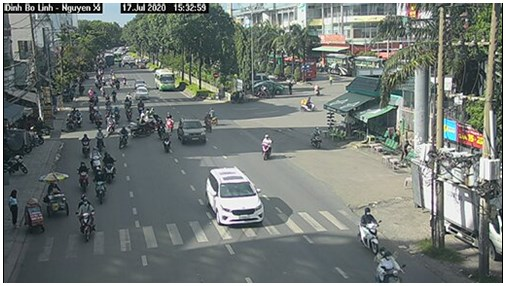di_bo: (8, 187, 21, 230)
xe_buyt: (153, 68, 176, 91)
xe_hoi: (205, 167, 267, 232), (177, 115, 206, 150)
xe_may: (371, 247, 405, 283), (75, 194, 97, 243), (358, 204, 380, 252), (102, 152, 119, 183), (93, 169, 106, 205), (76, 160, 89, 193), (87, 146, 101, 175), (116, 122, 129, 151), (262, 131, 273, 163), (79, 132, 92, 157), (160, 129, 172, 153), (94, 125, 105, 150)
